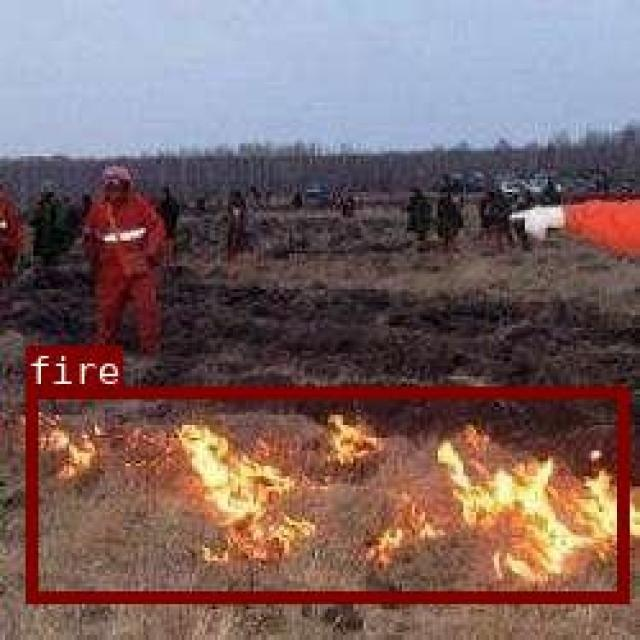fire: (24, 386, 625, 600)
